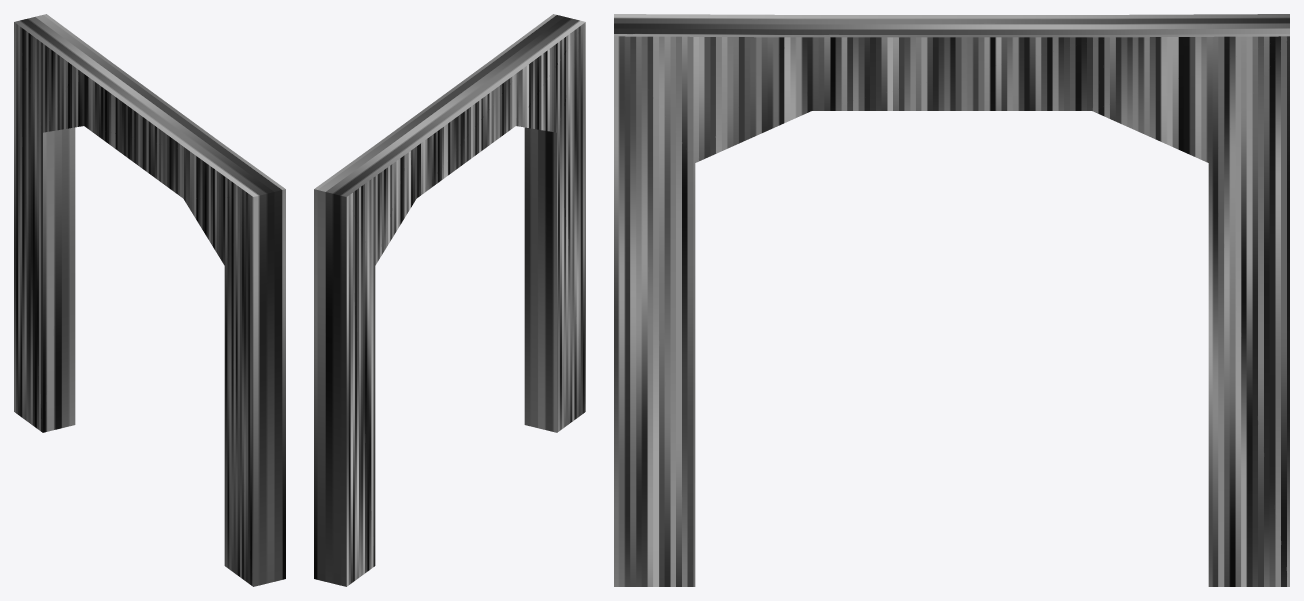
File: garage door frame.fbx
The picture shows the model from 3 angles, left to right: view 1: azimuth 30°, elevation 25°; view 2: azimuth 150°, elevation 25°; view 3: azimuth 270°, elevation 25°; orthographic projection. The views are drawn at different scales.
Parts seen in each view (by area): view 1: Plane.001; view 2: Plane.001; view 3: Plane.001.
Part boxes in pixels (bbox=[...]): Plane.001: bbox=[14, 14, 285, 586]; Plane.001: bbox=[314, 14, 585, 586]; Plane.001: bbox=[614, 14, 1289, 586].
Bounding box in the file's own units: 38.35 × 439 × 488.
